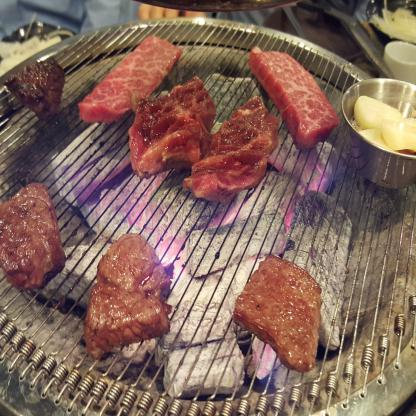Carne: (232, 257, 319, 365), (92, 240, 165, 347), (0, 185, 59, 288)
